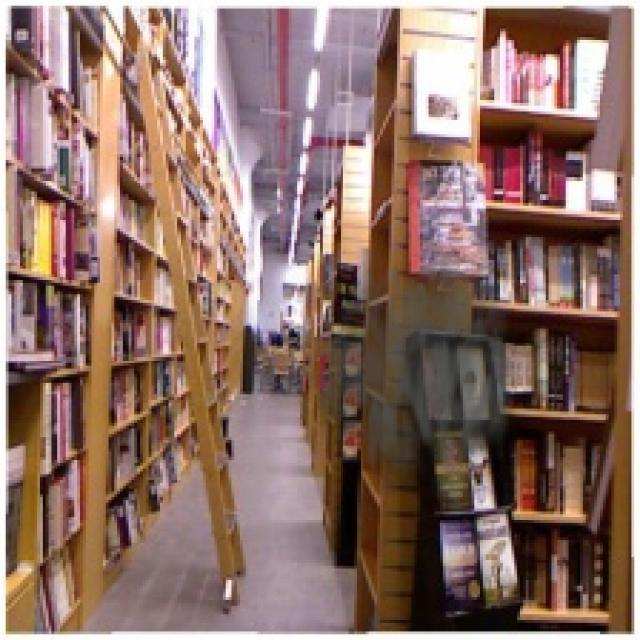Smoke: (321, 235, 528, 494)
